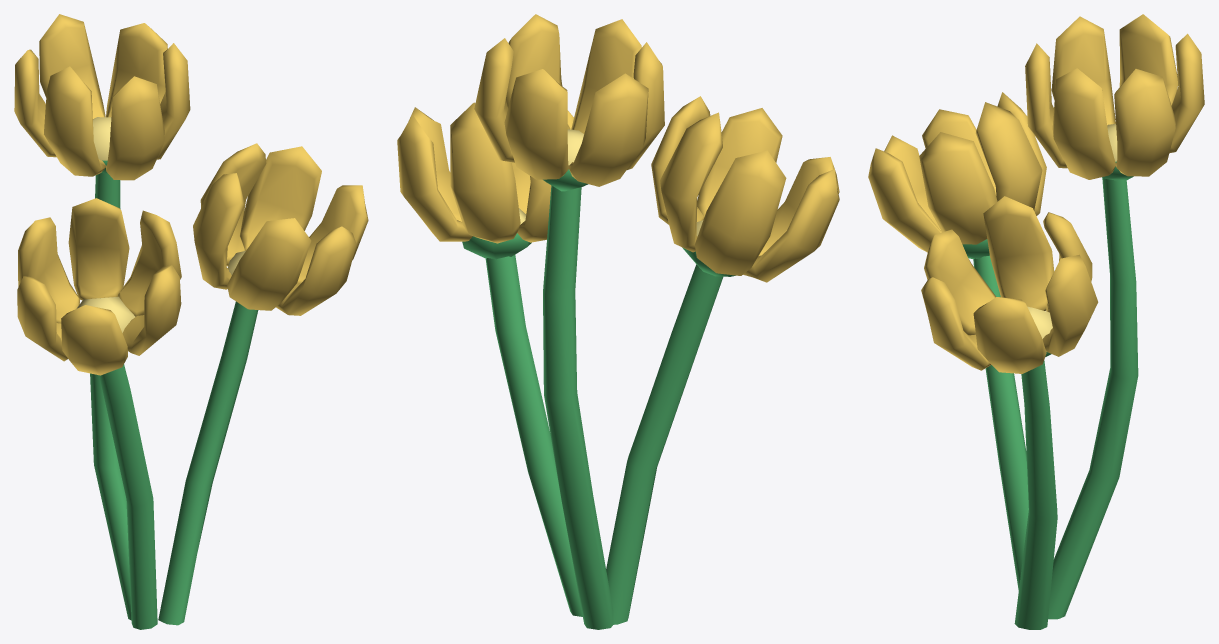
File: Flower_B_03_LOD2.gltf
The picture shows the model from 3 angles, left to right: view 1: azimuth 30°, elevation 25°; view 2: azimuth 150°, elevation 25°; view 3: azimuth 270°, elevation 25°; orthographic projection. The views are drawn at different scales.
Parts seen in each view (by area): view 1: Flower_B_03_LOD2_Plane.037; view 2: Flower_B_03_LOD2_Plane.037; view 3: Flower_B_03_LOD2_Plane.037.
Boxes of the visible parts, x1,y1,x2,y2 form: Flower_B_03_LOD2_Plane.037: [14, 14, 368, 629]; Flower_B_03_LOD2_Plane.037: [397, 14, 839, 629]; Flower_B_03_LOD2_Plane.037: [868, 14, 1204, 629].
Bounding box in the file's own units: 4.27 × 6.22 × 3.31.
1 material, 1 textured.
